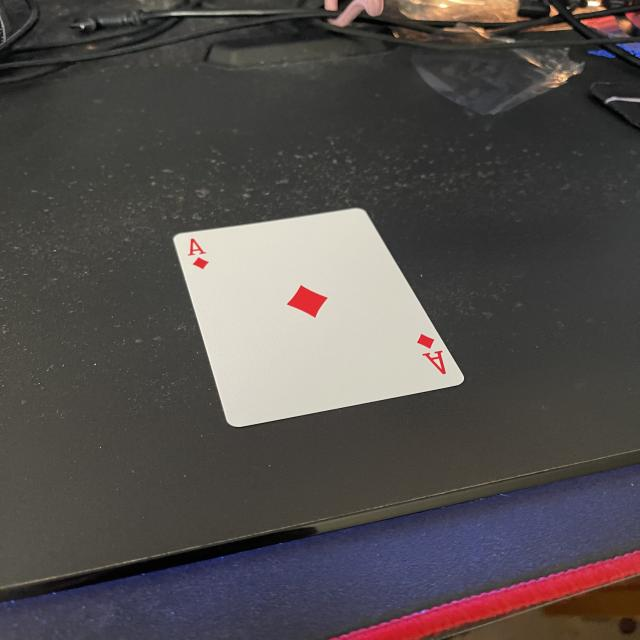Ace of diamonds: (176, 210, 463, 426)
